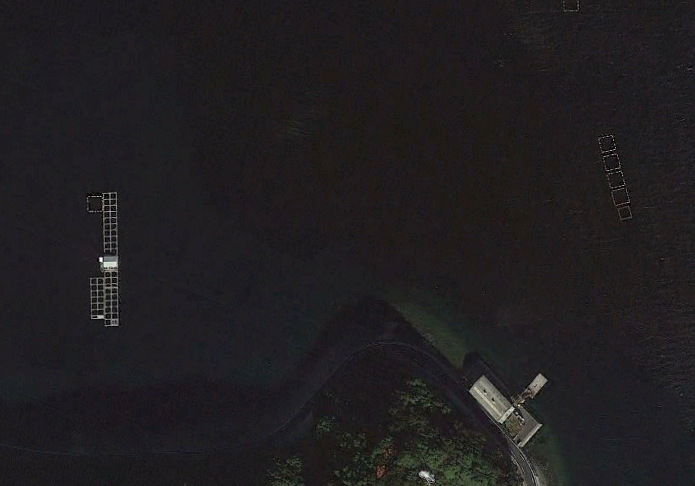house: (459, 353, 550, 449)
square: (601, 148, 626, 175), (594, 131, 621, 155), (96, 254, 122, 275), (606, 167, 629, 190), (609, 184, 631, 208), (83, 193, 106, 214), (615, 202, 633, 223)
